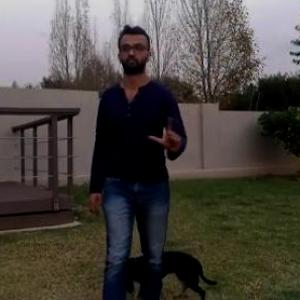land_hand: (146, 111, 188, 153)
